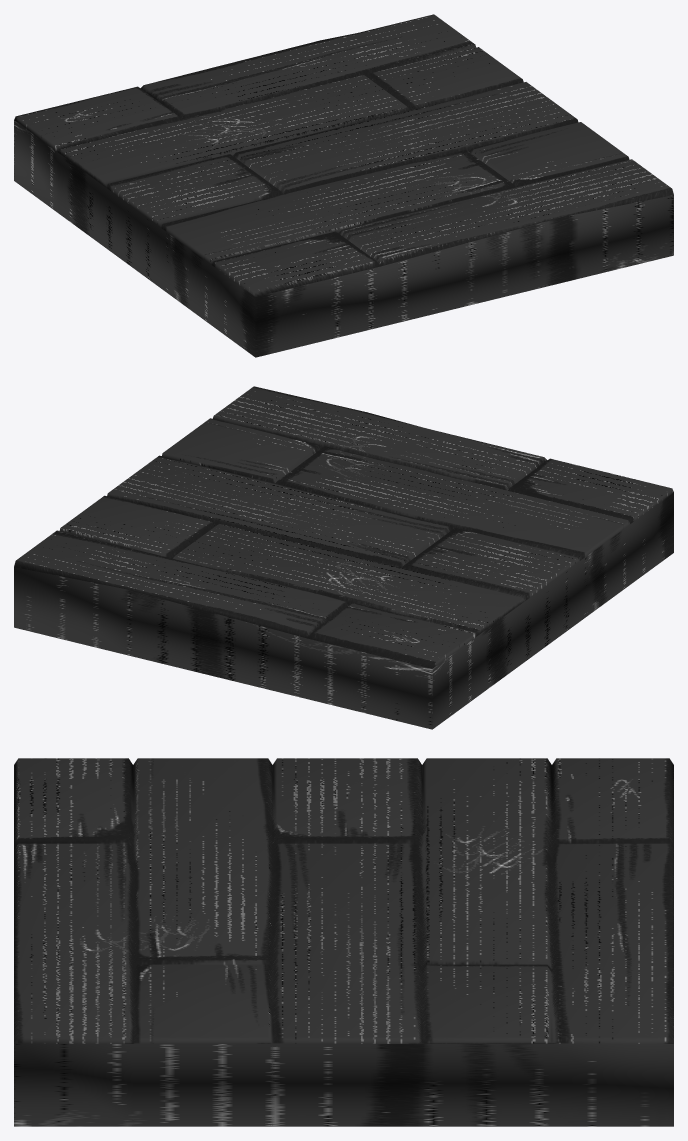
The model's file is Floor_Psychatrie_2.fbx.
3 views of the same model, one above another, from view 1: azimuth 30°, elevation 25°; view 2: azimuth 150°, elevation 25°; view 3: azimuth 270°, elevation 25° (orthographic). The views are drawn at different scales.
Parts seen in each view (by area): view 1: Cube.007; view 2: Cube.007; view 3: Cube.007.
Boxes of the visible parts, bbox=[...] form: Cube.007: bbox=[14, 14, 673, 357]; Cube.007: bbox=[14, 386, 673, 729]; Cube.007: bbox=[14, 758, 673, 1126].
Bounding box in the file's own units: 200 × 30 × 200.
